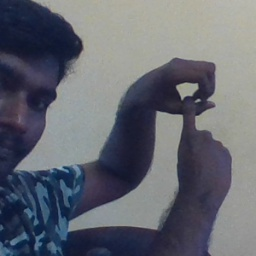Q: (117, 51, 239, 179)
